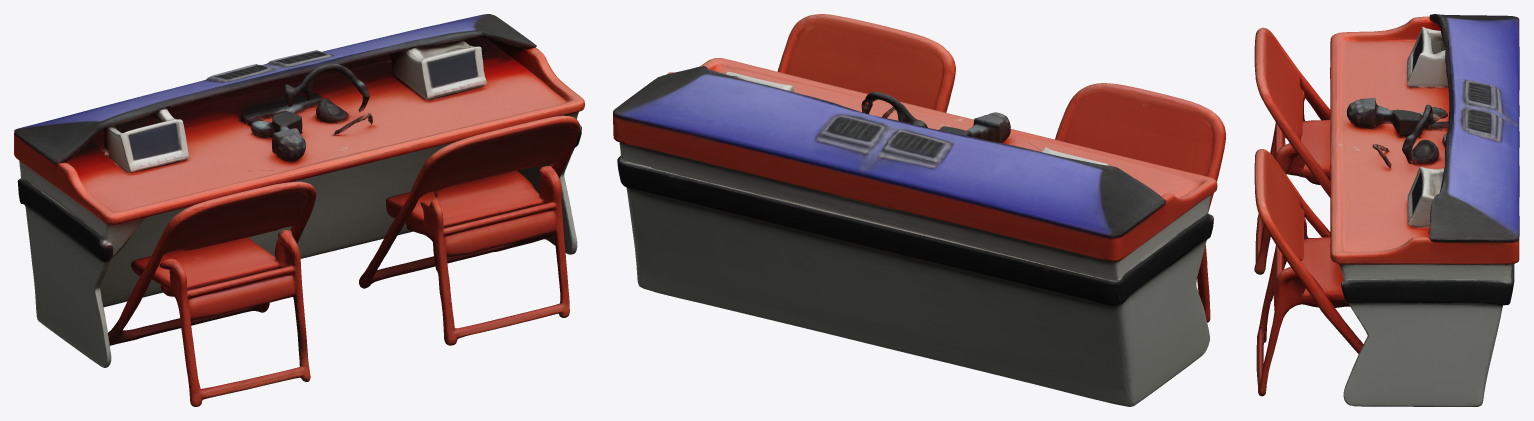
File: luwai-1693-1741796401.glb
3 renders of one model, left to right at view 1: azimuth 30°, elevation 25°; view 2: azimuth 150°, elevation 25°; view 3: azimuth 270°, elevation 25°, orthographic. The views are drawn at different scales.
Visible parts, largest first — view 1: world; view 2: world; view 3: world.
Boxes of the visible parts, x1=… form: world: x1=14, y1=14, x2=584, y2=406; world: x1=613, y1=14, x2=1225, y2=406; world: x1=1254, y1=14, x2=1519, y2=406.
Bounding box in the file's own units: 0.9946 × 0.448 × 0.4954.
Materials: 1 (1 with a texture image).
